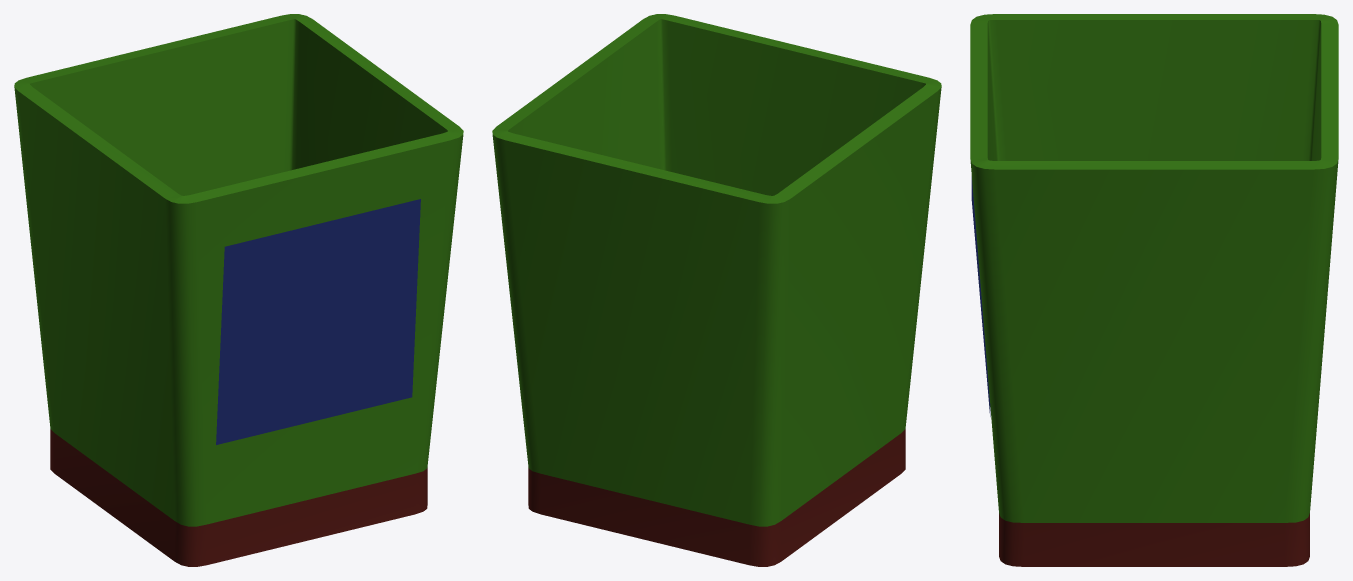
The model's file is Caneca.fbx.
The picture shows the model from 3 angles, left to right: view 1: azimuth 30°, elevation 25°; view 2: azimuth 150°, elevation 25°; view 3: azimuth 270°, elevation 25°; orthographic projection. The views are drawn at different scales.
Parts seen in each view (by area): view 1: Box001; view 2: Box001; view 3: Box001.
Boxes of the visible parts, x1,y1,x2,y2 form: Box001: (14, 14, 463, 566); Box001: (492, 14, 941, 566); Box001: (970, 14, 1338, 566).
Bounding box in the file's own units: 43.38 × 53.45 × 43.38.
